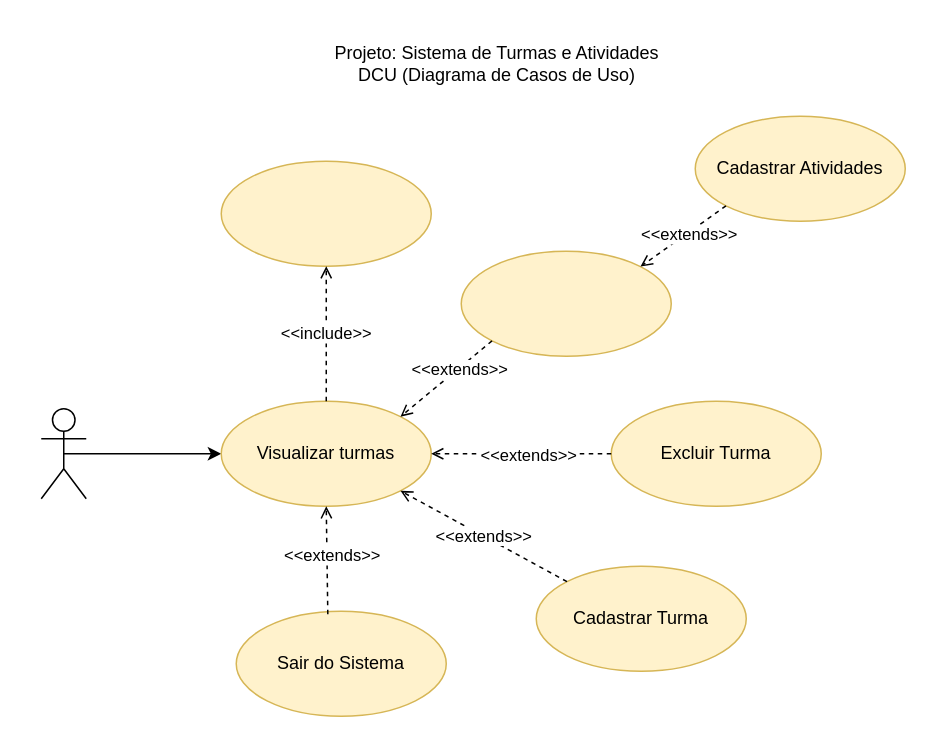
This 932x743 diagram has some shape labels left out. Each missing label, with the centre of its shape:
Autenticar usuário: (325,213)
Professor: (63,453)
Visualizar Atividades: (565,303)
